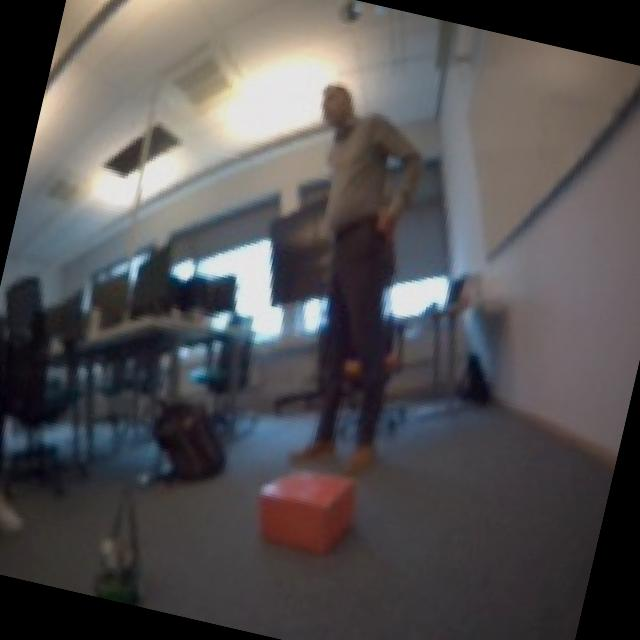robot: (78, 528, 157, 608)
target: (243, 454, 363, 560)
